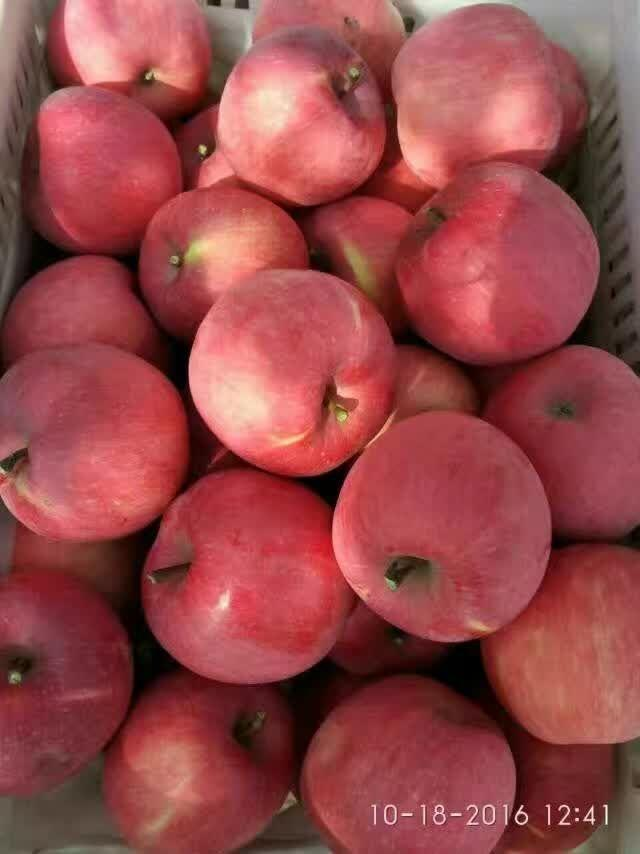apple: (326, 401, 550, 635), (293, 661, 533, 851), (145, 468, 357, 683), (188, 262, 403, 473), (397, 162, 601, 358), (97, 661, 300, 847), (1, 343, 185, 548), (384, 1, 577, 193), (477, 534, 640, 747), (221, 29, 403, 203), (1, 572, 138, 795), (480, 348, 640, 538), (24, 78, 177, 256), (137, 183, 307, 340), (49, 1, 209, 123), (5, 257, 169, 372), (329, 597, 445, 678)
